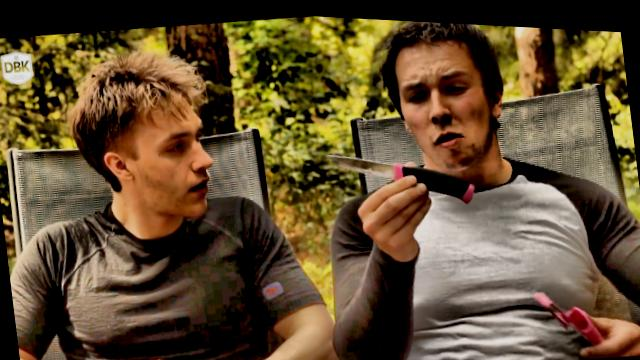knife: (317, 127, 479, 226)
